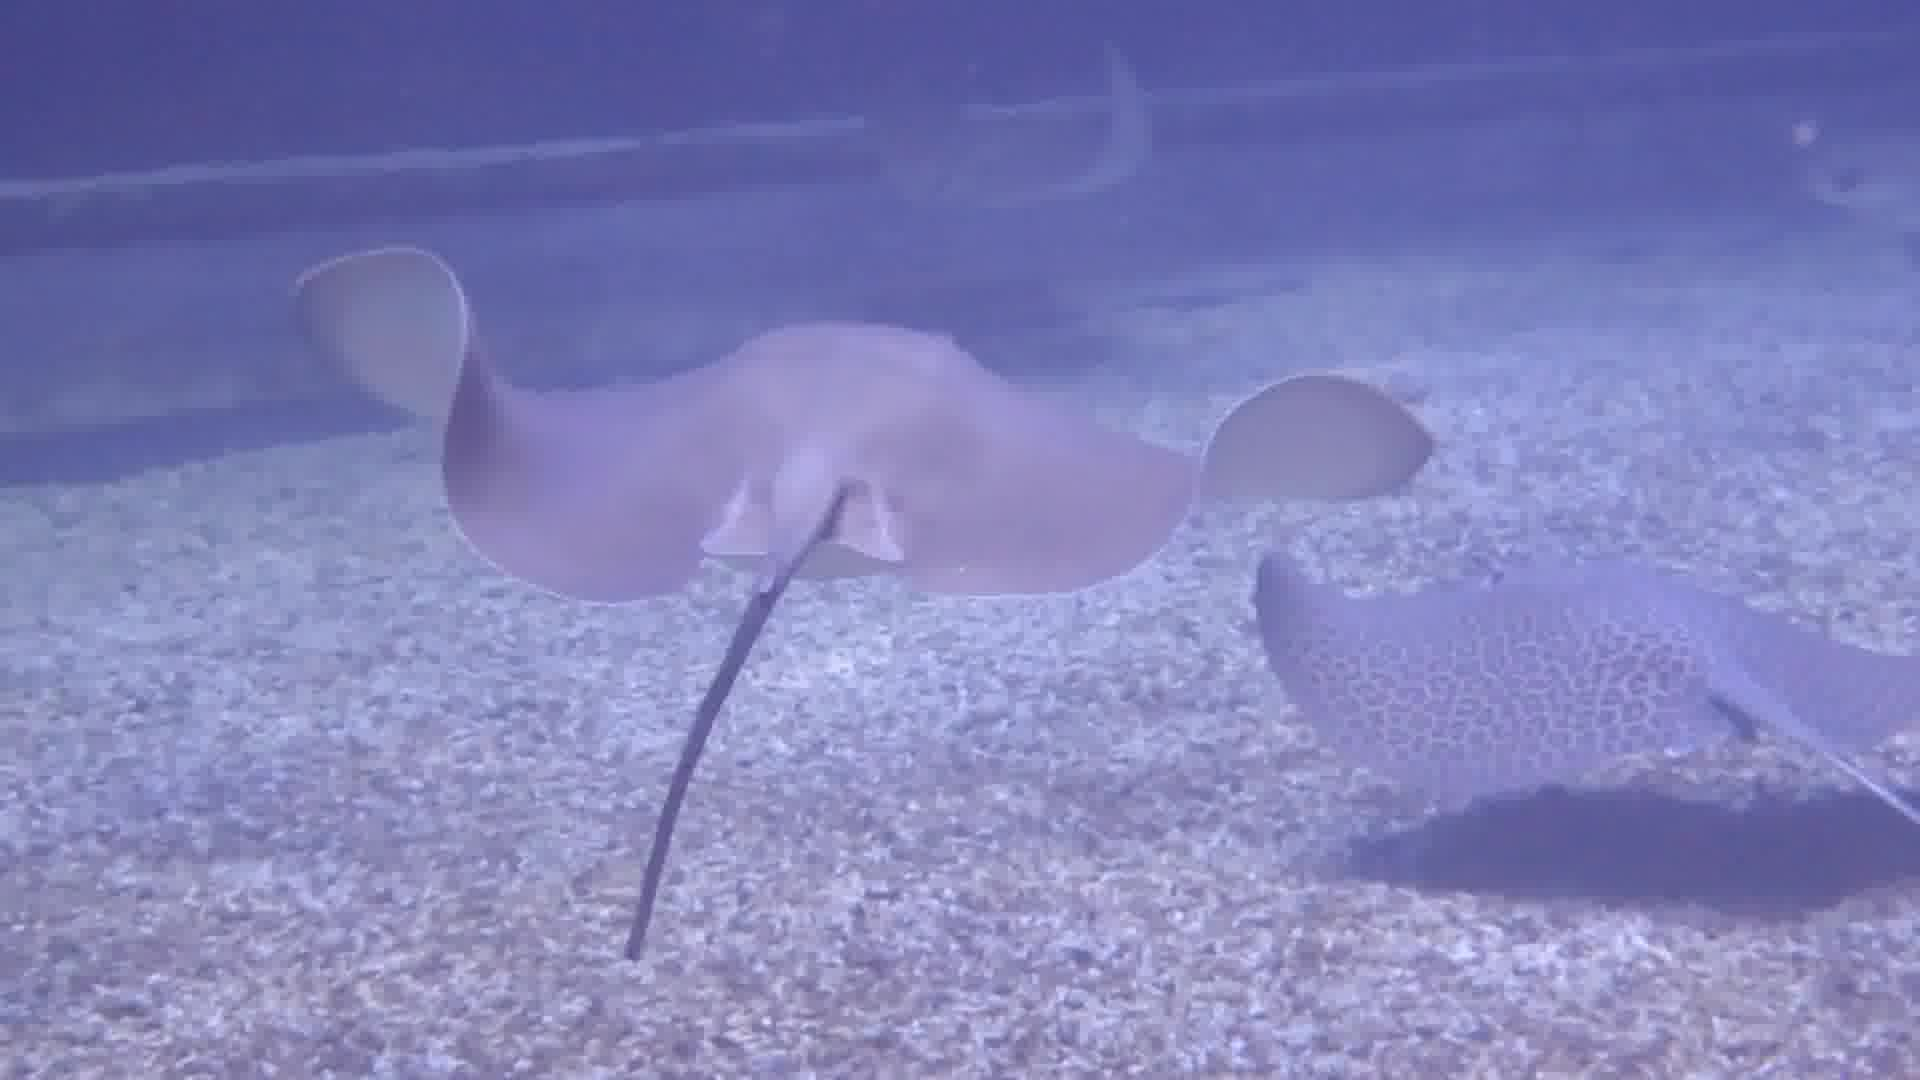Dasyatis akajei: (276, 117, 1429, 975)
